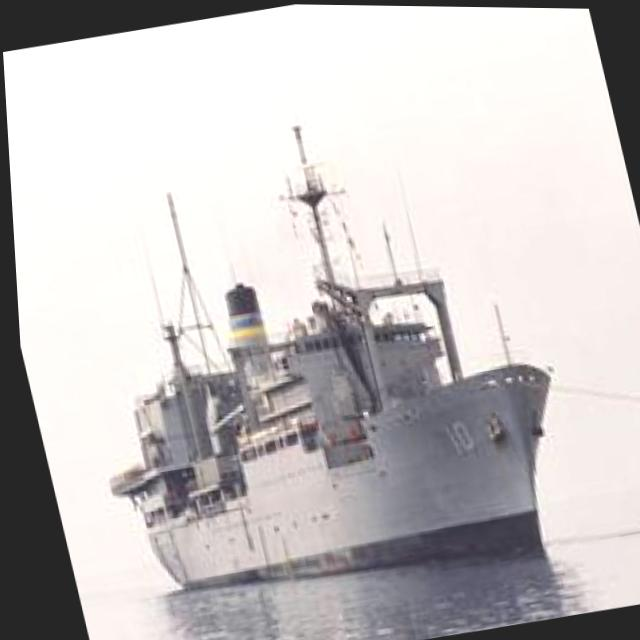ship2: (102, 126, 548, 591)
